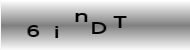6: (26, 23, 40, 37)
D: (91, 22, 106, 34)
T: (112, 14, 127, 28)
i: (52, 24, 59, 39)
n: (73, 12, 88, 23)
